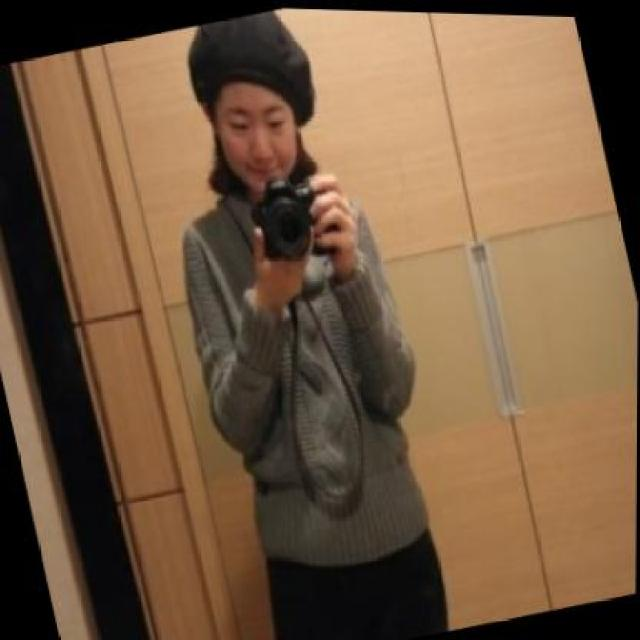hat: (174, 5, 326, 152)
